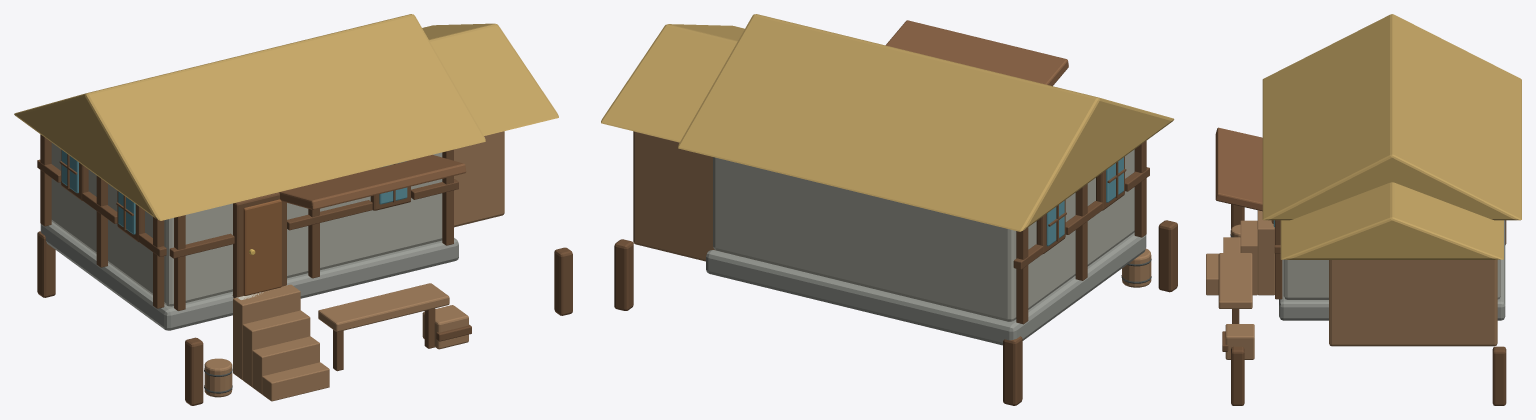
The model's file is wetland-artisan-1.glb.
3 views of the same model, side by side, from view 1: azimuth 30°, elevation 25°; view 2: azimuth 150°, elevation 25°; view 3: azimuth 270°, elevation 25° (orthographic). The views are drawn at different scales.
Visible parts, largest first — view 1: Golden thatch, Aged oak, Fieldstone, Dark beams, Foundation stone, Wood shingles, Door oak, Blue glass; view 2: Golden thatch, Fieldstone, Foundation stone, Dark beams, Aged oak, Wood shingles, Blue glass; view 3: Golden thatch, Aged oak, Wood shingles, Dark beams, Fieldstone, Foundation stone.
Part boxes in pixels (x1,y1,x2,y2): Golden thatch: (14,14,558,220); Aged oak: (204,131,504,401); Fieldstone: (51,143,442,306); Dark beams: (37,134,572,405); Foundation stone: (40,221,458,330); Wood shingles: (279,155,466,209); Door oak: (243,199,281,295); Blue glass: (61,150,407,234); Golden thatch: (601,14,1174,231); Fieldstone: (713,149,1134,321); Foundation stone: (706,232,1146,345); Dark beams: (614,141,1177,405); Aged oak: (633,131,1151,287); Wood shingles: (885,20,1068,86); Blue glass: (1046,157,1123,246); Golden thatch: (1262,14,1521,259); Aged oak: (1206,210,1497,359); Wood shingles: (1215,127,1262,211); Dark beams: (1222,204,1506,405); Fieldstone: (1283,259,1500,299); Foundation stone: (1279,220,1505,320).
Bounding box in the file's own units: 5.64 × 3.27 × 4.22.
